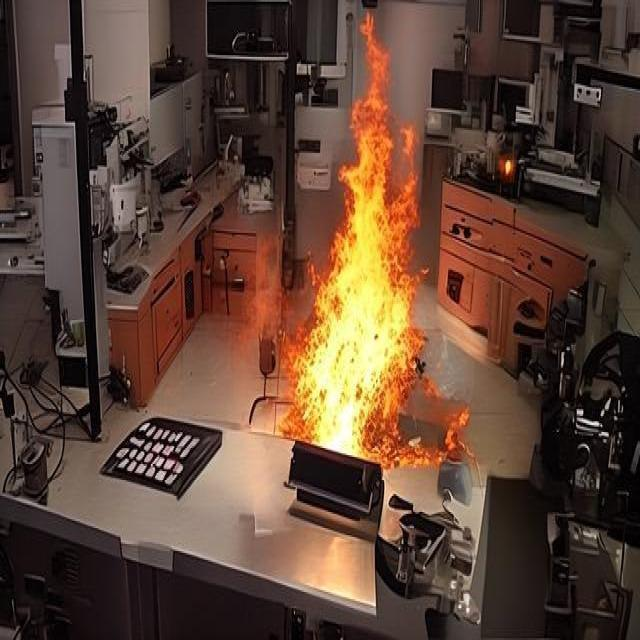smoke: (282, 14, 435, 460)
